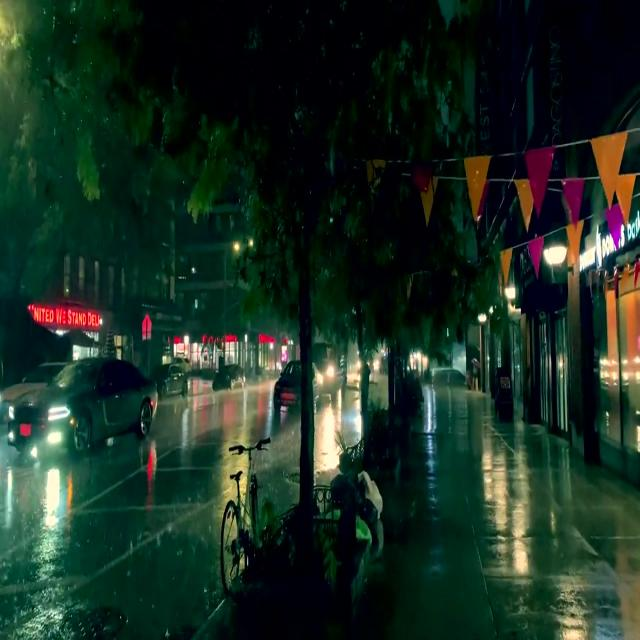Car: (11, 358, 152, 452)
